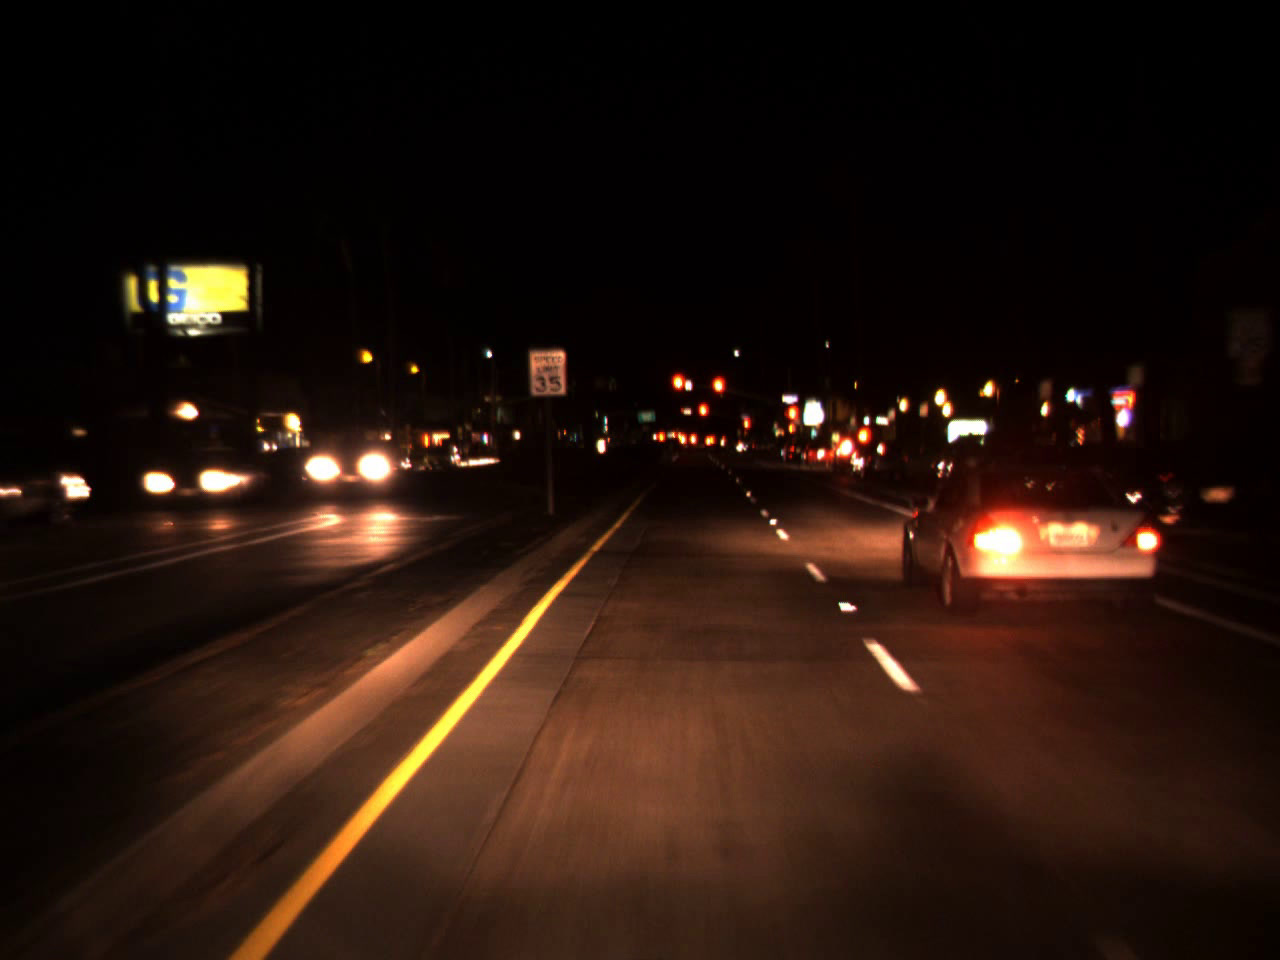stop: (669, 370, 688, 413), (710, 374, 726, 411), (785, 402, 800, 439), (696, 401, 709, 433), (745, 415, 751, 442)
